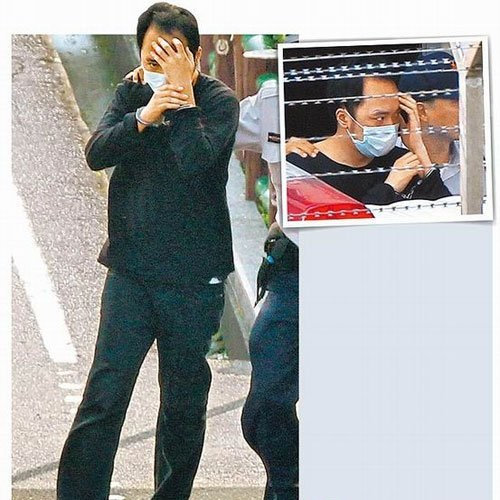face_mask: (142, 25, 189, 96), (357, 88, 400, 156)
